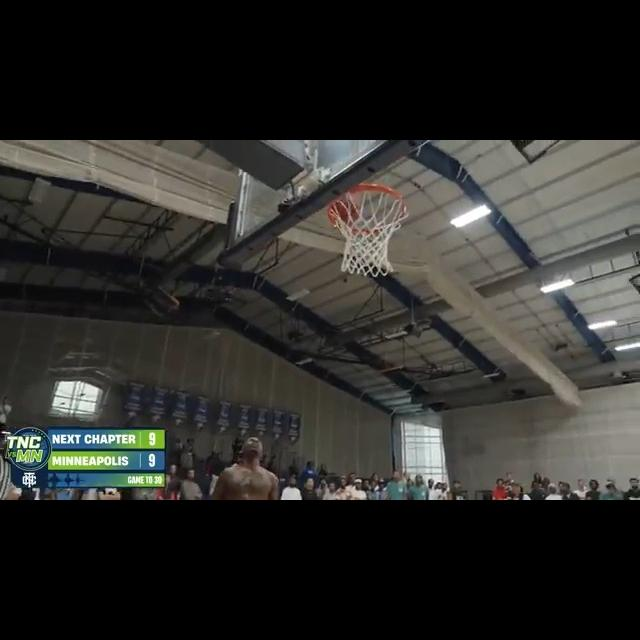basketball: (327, 189, 362, 226)
hoop: (329, 178, 404, 278)
